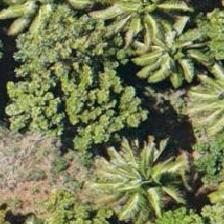coconut_tree: (127, 5, 217, 95), (94, 132, 184, 222)
